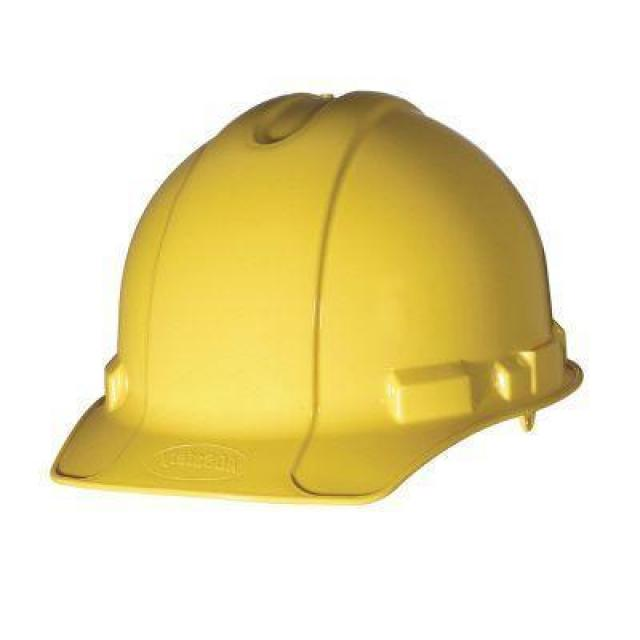Safety-Helmet: (72, 64, 589, 507)
